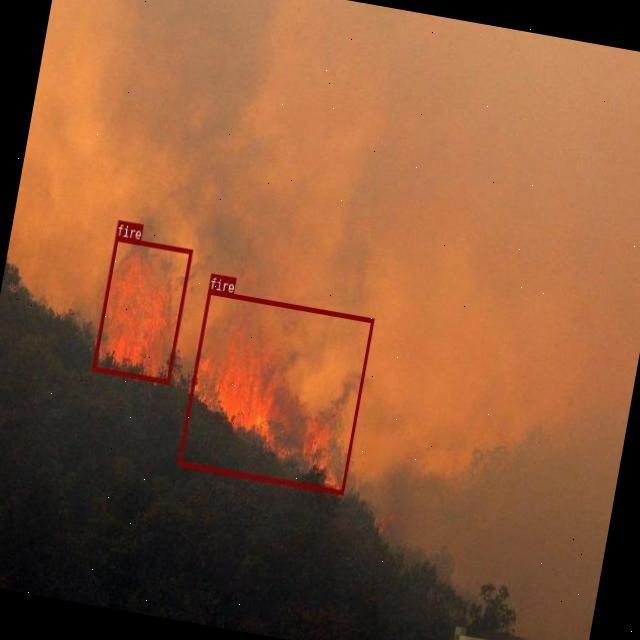fire: (177, 290, 373, 493), (91, 235, 192, 384)
